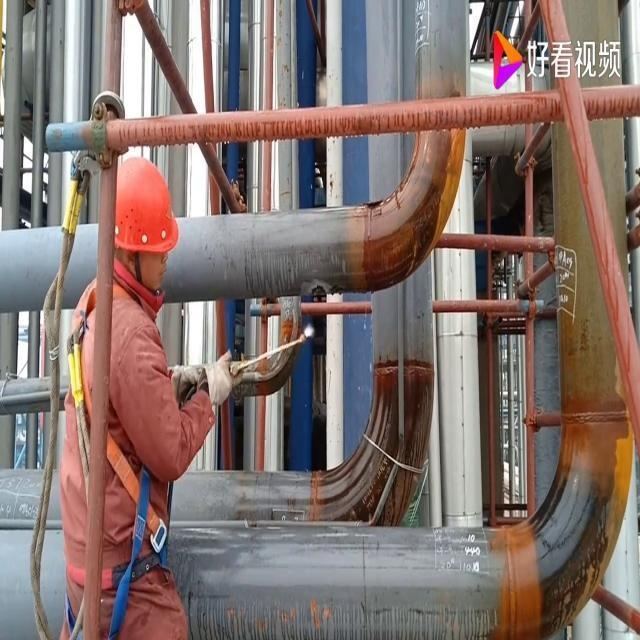Arnes_seguridad: (64, 267, 174, 558)
